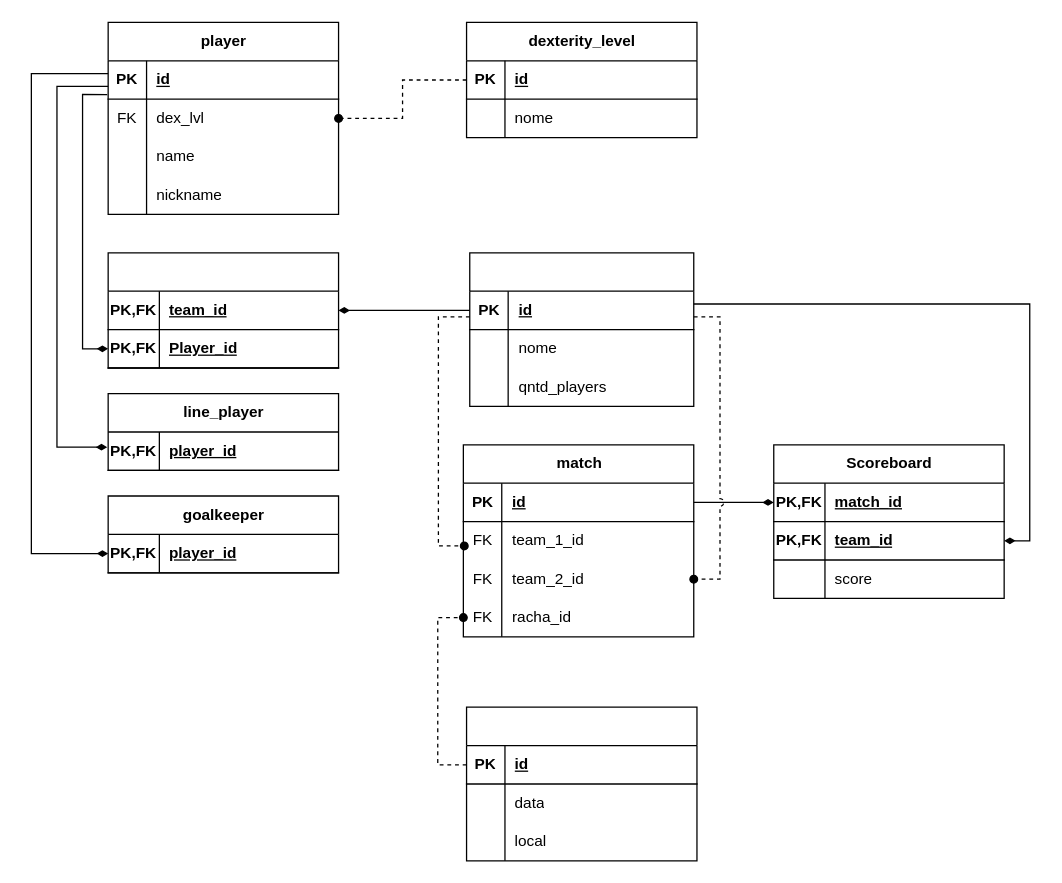
This 1062x883 diagram has some shape labels left out. The shapes that lost their labels are listed below. From the top down, each one's box as (x1, y1, x2, y2) in pixels, then its label:
(107, 252, 339, 368): team_players
(468, 252, 694, 406): team
(465, 706, 697, 861): Racha
